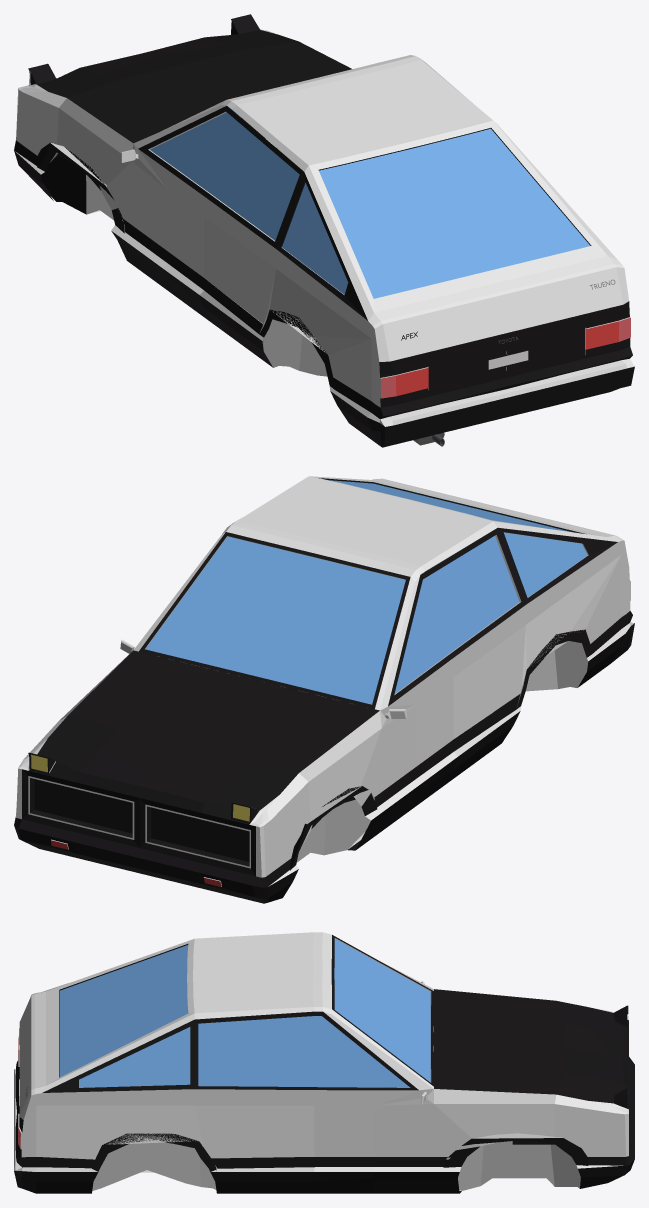
Rendered from trueno.fbx.
The picture shows the model from 3 angles, top to bottom: view 1: azimuth 30°, elevation 25°; view 2: azimuth 150°, elevation 25°; view 3: azimuth 270°, elevation 25°; orthographic projection. The views are drawn at different scales.
Parts seen in each view (by area): view 1: Cube; view 2: Cube; view 3: Cube.
Part boxes in pixels (<box>): Cube: <box>14,14,634,447</box>; Cube: <box>14,476,634,903</box>; Cube: <box>14,932,634,1193</box>.
Bounding box in the file's own units: 625 × 1414 × 464.
